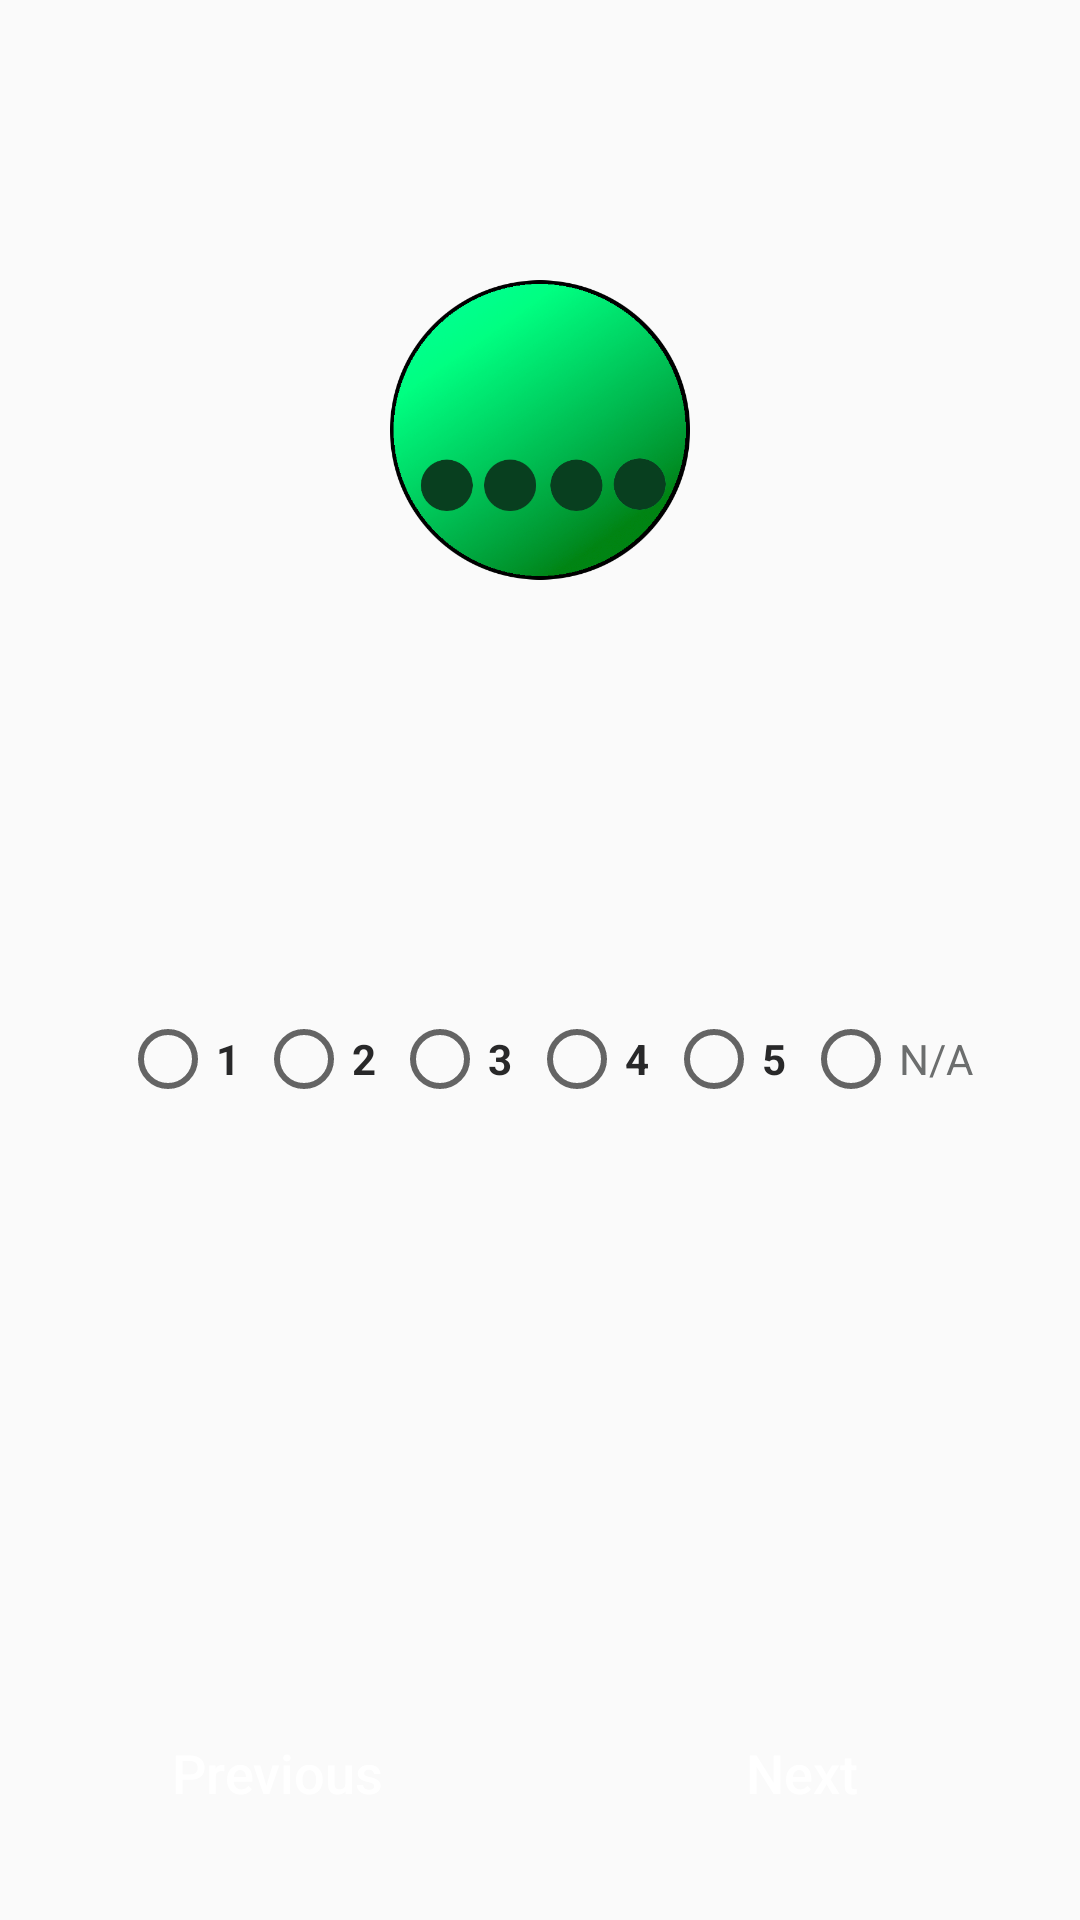

Icons on this 1080×1920 Android screen, each with the point to tap as [x,y]:
lta likert: [540,430]
